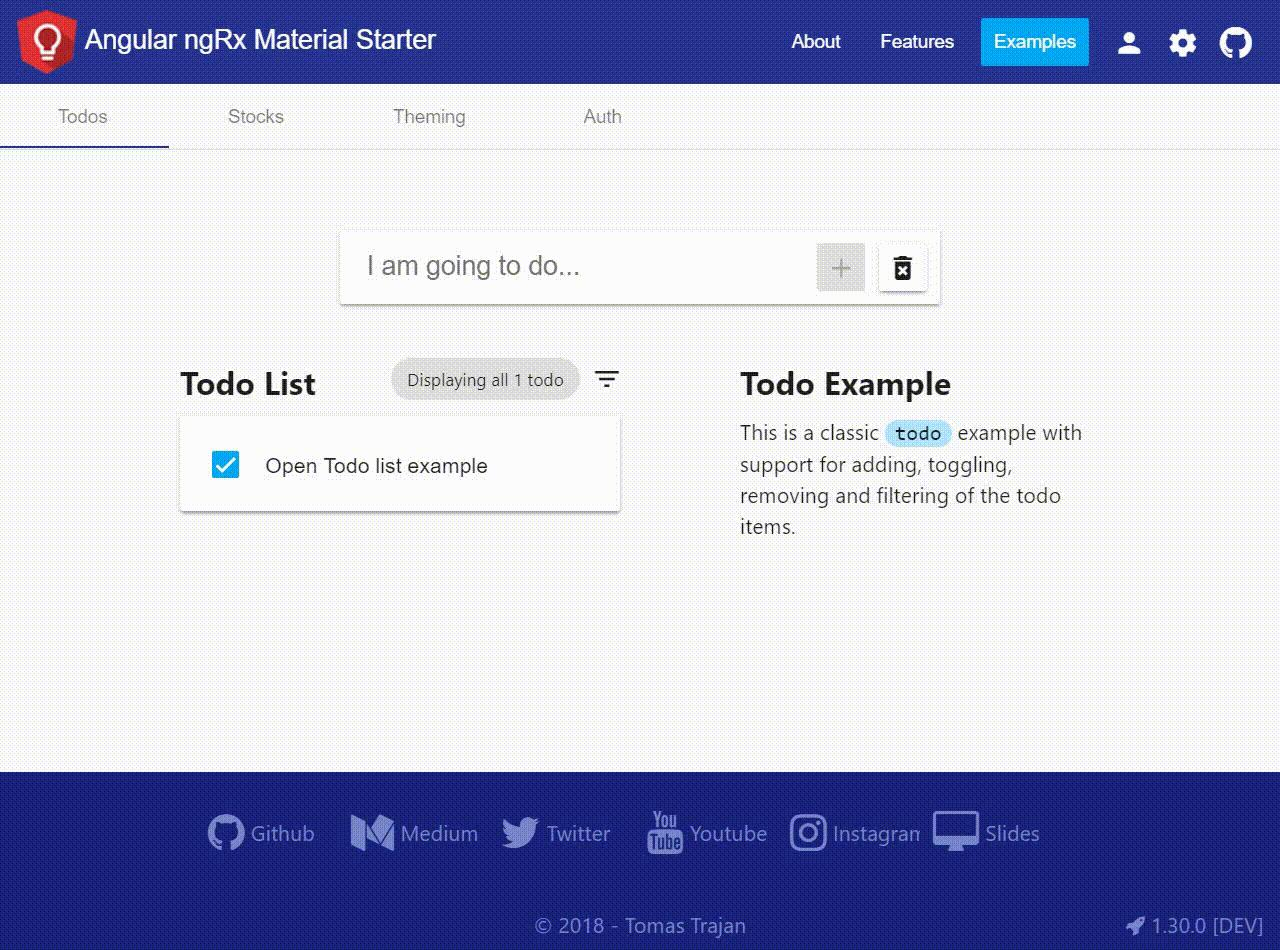checkbox: (199, 437, 254, 485)
textbox: (322, 215, 952, 311)
